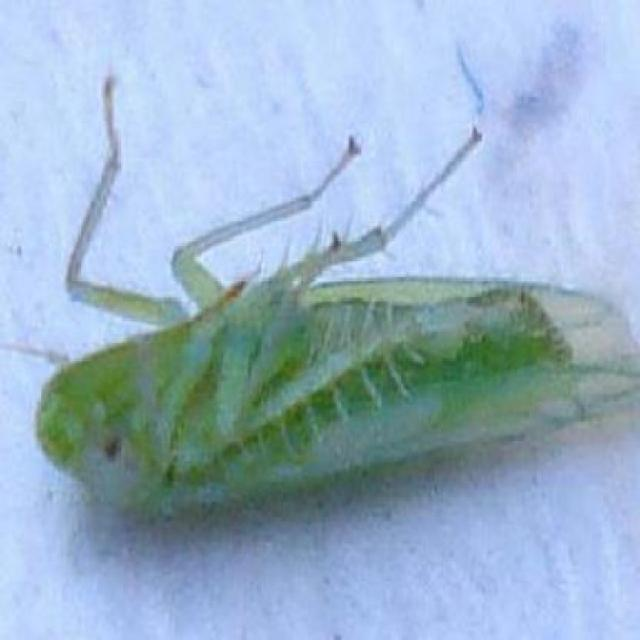green-leafhopper: (41, 274, 617, 498)
